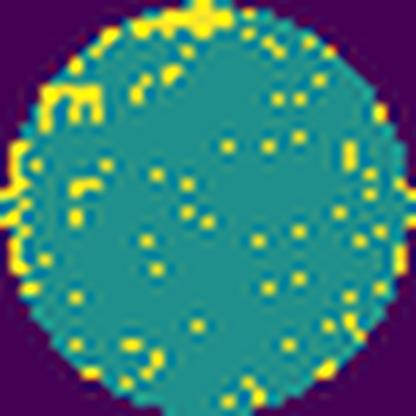Edge-Loc: (128, 0, 240, 45), (34, 80, 110, 134), (0, 210, 35, 278), (0, 134, 32, 208)
